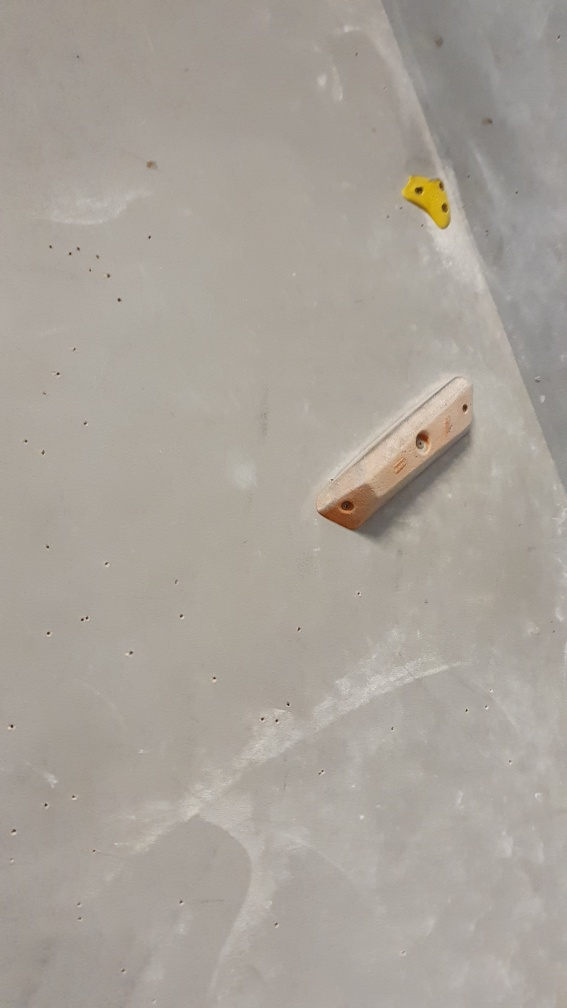Pinch: (315, 373, 478, 534)
